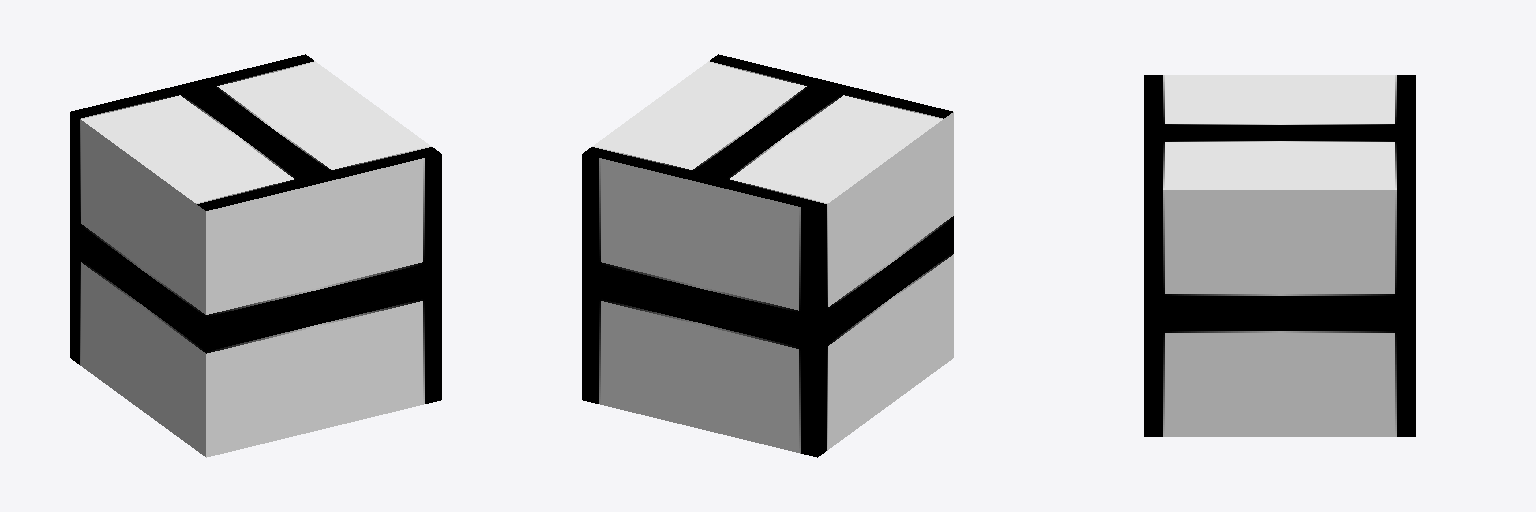
3 renders of one model, left to right at view 1: azimuth 30°, elevation 25°; view 2: azimuth 150°, elevation 25°; view 3: azimuth 270°, elevation 25°, orthographic.
Visible parts, largest first — view 1: Cube; view 2: Cube; view 3: Cube.
Boxes of the visible parts, x1,y1,x2,y2 form: Cube: [70, 54, 441, 457]; Cube: [582, 54, 953, 457]; Cube: [1144, 75, 1415, 436].
Bounding box in the file's own units: 2 × 2 × 2.
1 materials, 1 textured.